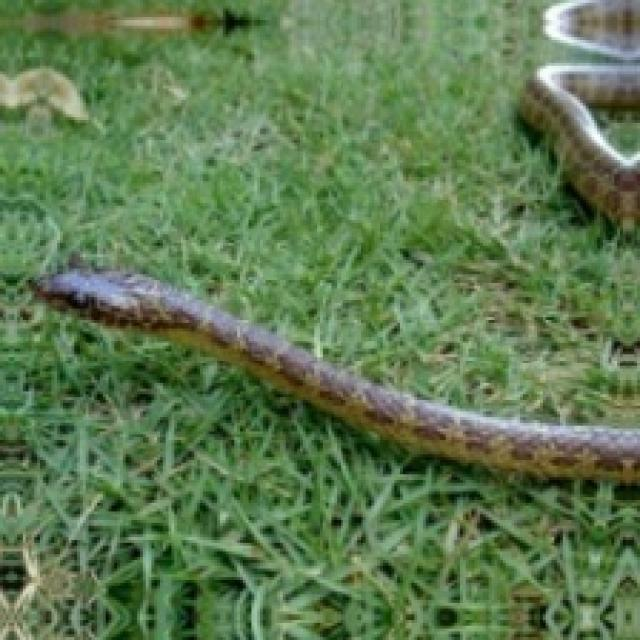mullers wolf snake: (37, 269, 637, 483), (520, 66, 637, 226)
